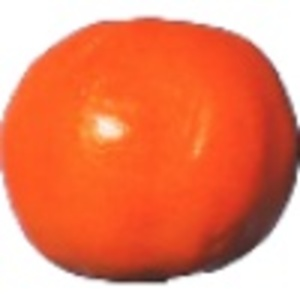tangerina: (1, 14, 300, 286)
